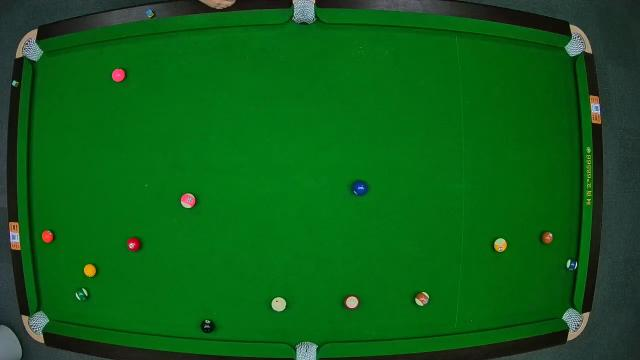bag1: (21, 40, 41, 60)
bag2: (292, 1, 316, 23)
bag3: (565, 34, 587, 54)
bag4: (28, 312, 46, 332)
bag5: (295, 340, 317, 360)
bag6: (562, 308, 582, 328)
ball0: (271, 296, 287, 312)
ball1: (83, 263, 97, 277)
ball10: (566, 259, 578, 271)
ball11: (344, 294, 360, 310)
ball12: (182, 193, 196, 209)
ball14: (74, 287, 88, 301)
ball15: (414, 291, 430, 307)
ball2: (352, 180, 368, 196)
ball3: (126, 236, 142, 252)
ball4: (111, 68, 125, 82)
ball5: (42, 230, 54, 244)
ball7: (541, 232, 553, 244)
ball8: (200, 318, 214, 334)
ball9: (494, 238, 506, 252)
